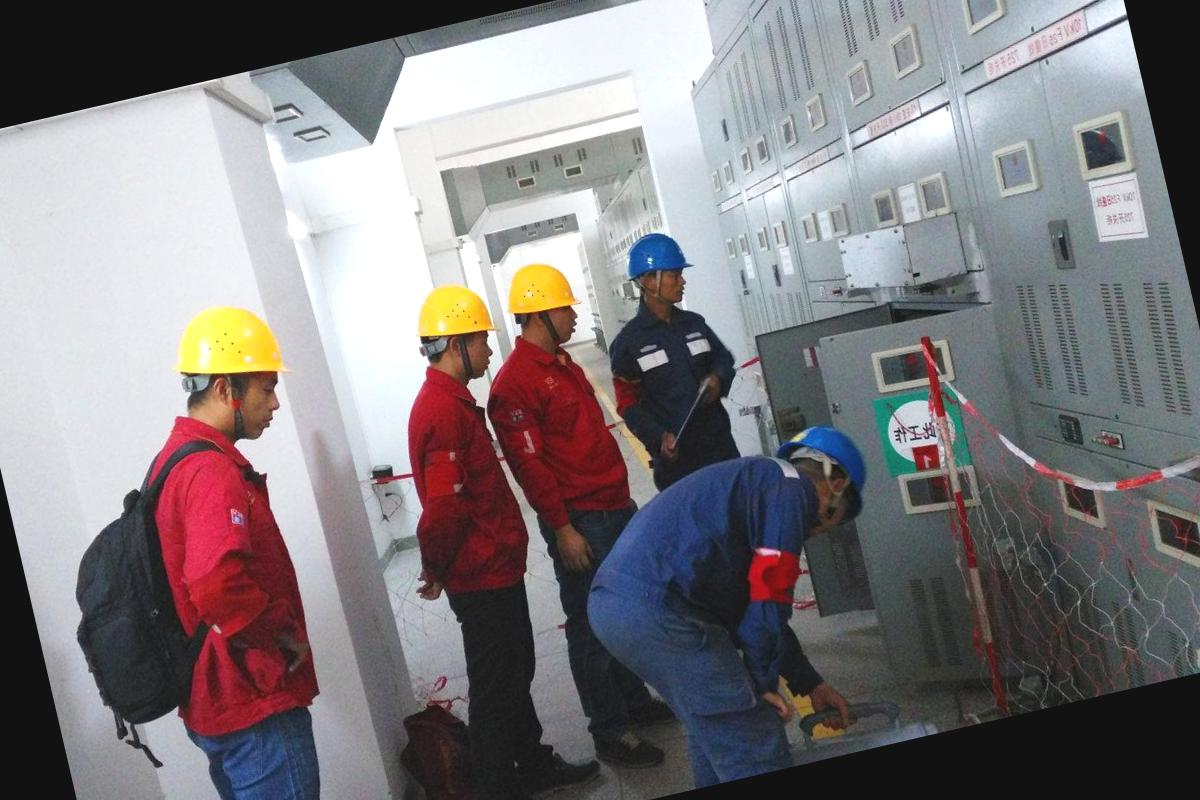helmet: (152, 288, 306, 416), (779, 417, 886, 540), (386, 268, 500, 374), (486, 244, 597, 345), (610, 209, 710, 298)
no_vest: (100, 418, 326, 766), (572, 447, 832, 694), (372, 364, 538, 630), (474, 332, 640, 556), (614, 294, 737, 453)
person: (39, 278, 413, 800), (307, 261, 616, 800), (535, 402, 947, 800), (462, 238, 700, 728), (572, 194, 764, 489)
